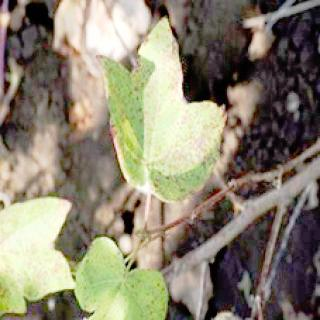leaf spot: (95, 16, 227, 204), (4, 213, 68, 304), (116, 248, 170, 316)
